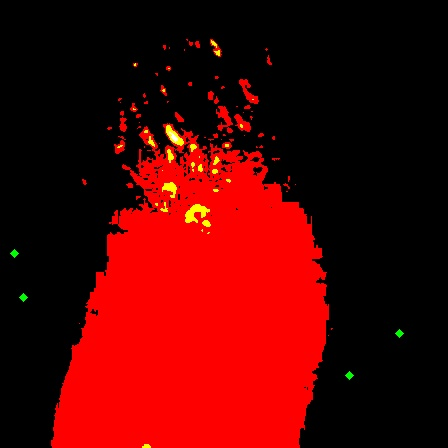coin_1: (23, 297, 43, 317)
coin_2: (14, 253, 34, 273)
coin_3: (349, 375, 369, 395)
coin_4: (399, 333, 419, 353)
